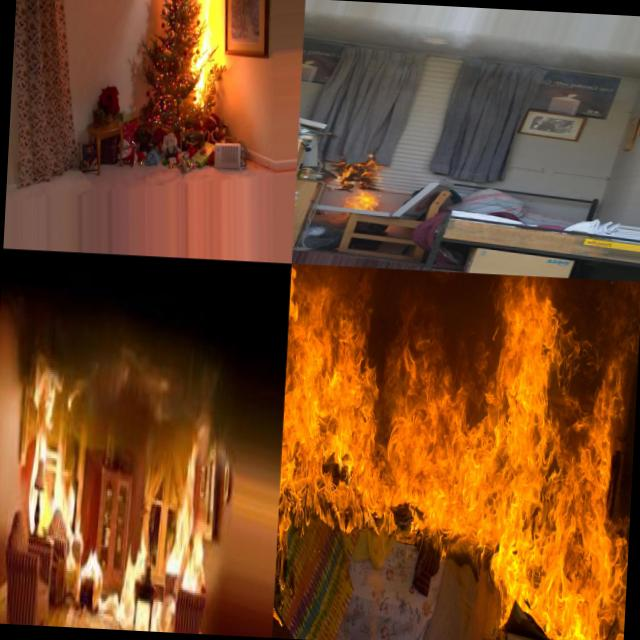fire: (275, 264, 640, 602), (24, 366, 63, 536), (164, 434, 202, 574), (114, 532, 151, 632), (188, 0, 218, 114), (180, 506, 210, 602), (56, 472, 80, 579), (338, 180, 385, 213), (80, 538, 106, 590)
smoke: (60, 352, 228, 438)
